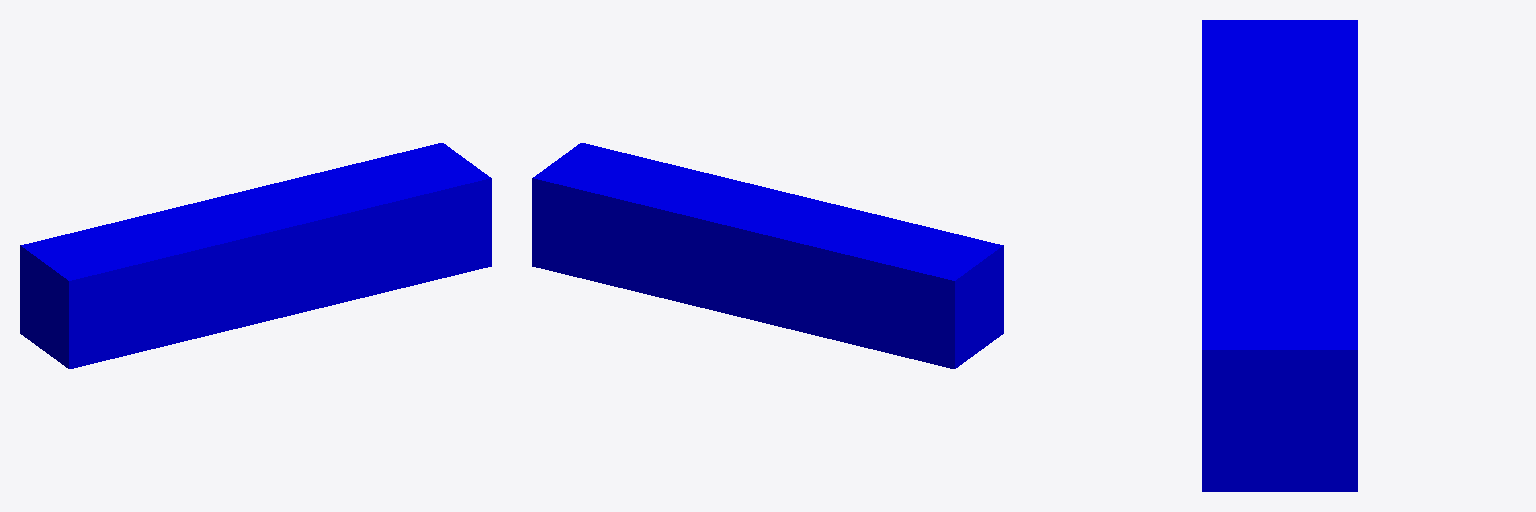
robot.urdf — simple_box:
<?xml version="1.0" ?>
<robot name="simple_box">
  <!-- ===================== base_box - link1 ==============================================-->
  <!-- base_box -->
  <link name="box_link">
    <!--見た目の定義-->
    <visual>
      <!--linkの原点からのオフセット-->
      <origin xyz="0 0 0" rpy="0 0 0"/>
      <geometry>
        <!--base_boxのサイズ（見た目）を指定-->
        <box size="5 1 1"/>
      </geometry>
      <!--色の指定-->
      <material name="blue">
        <color rgba="0 0 1 1"/>
      </material>
    </visual>

    <!--衝突の定義（特段の理由がなければ、基本的にvisualタグと同じ設定でよい-->
    <collision>
      <!--linkの原点からのオフセット-->
      <origin xyz="0 0 0" rpy="0 0 0"/>
      <geometry>
        <!--base_boxのサイズ（衝突領域）を指定-->
        <box size="5 1 1"/>
      </geometry>
      <!--衝突に関する設定なので、materialタグはない-->
    </collision>

    <!--イナーシャ（慣性）に関する設定-->
    <inertial>
        <!--linkの原点からのオフセット-->
        <origin xyz="0 0 0" rpy="0 0 0" />
        <!--linkの重量-->
        <mass value="1" />
        <!--イナーシャ-->
        <inertia ixx="0.000034533333" 
            ixy="0"  ixz="0"
            iyx="0"  iyy="0.000034533333" 
            iyz="0"
            izx="0"  izy="0"  izz="0.0000648" />
    </inertial>
  </link>
</robot>

--- What the picture shows (computed from the rendered views, not written in the file) ---
The picture shows the robot from 3 angles, left to right: view 1: azimuth 30°, elevation 25°; view 2: azimuth 150°, elevation 25°; view 3: azimuth 270°, elevation 25°; orthographic projection.
Model simple_box with 1 links and 0 joints (none), rooted at box_link, posed all joints at 0.
Links seen in each view (by area): view 1: box_link; view 2: box_link; view 3: box_link.
Boxes of the visible links, <box> form: box_link: <box>20,143,491,368</box>; box_link: <box>532,143,1003,368</box>; box_link: <box>1202,20,1357,491</box>.
Bounding box of the posed robot: 5 × 1 × 1 m (x, y, z).
Geometry: primitives only (box / cylinder / sphere), no mesh files.
